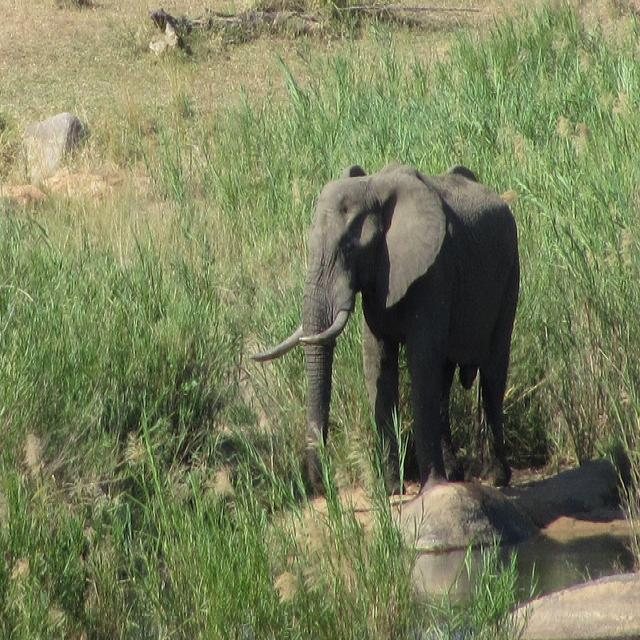Elephant: (250, 161, 520, 495)
